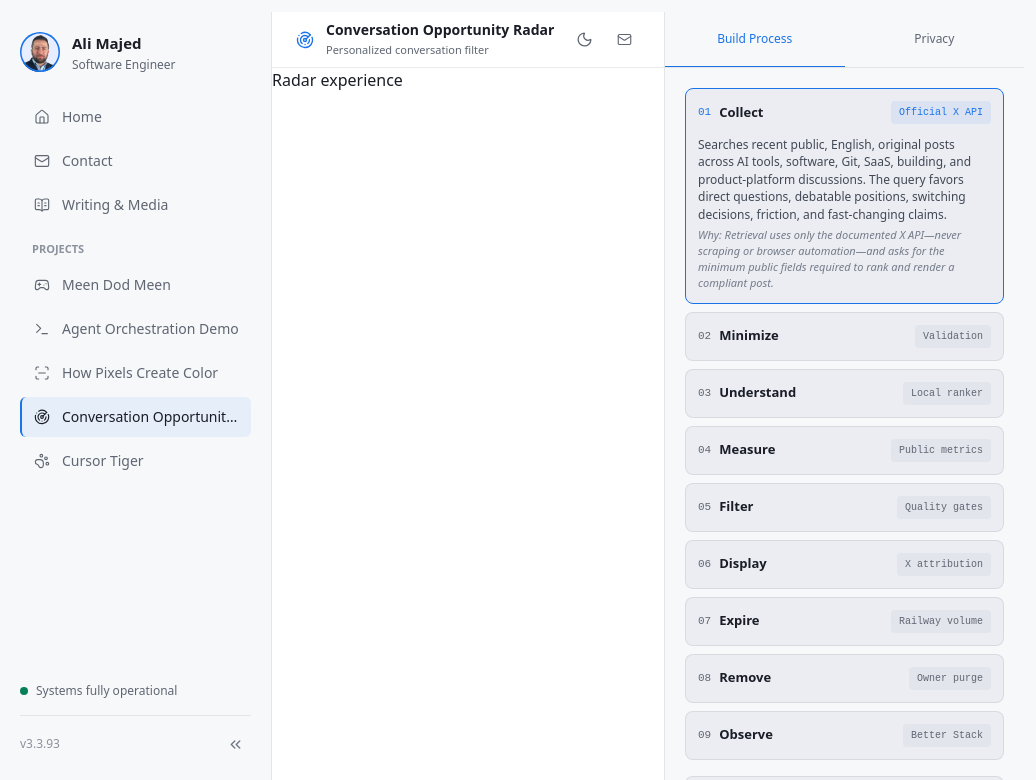
AppShell — project-specific right panels › shows Build Process and Privacy tabs only for the Radar project
Click the tab "Privacy" at (934, 40), box [844,12,1024,67]
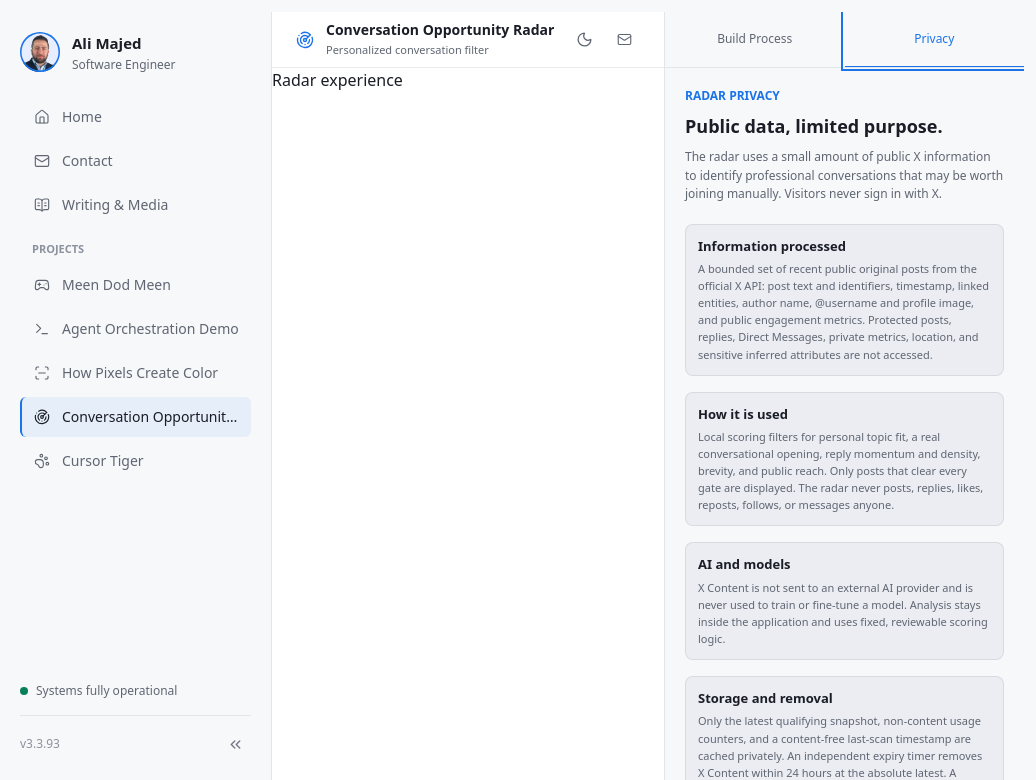
Result: the heading "Public data, limited purpose." is shown at [685,114,942,138]
